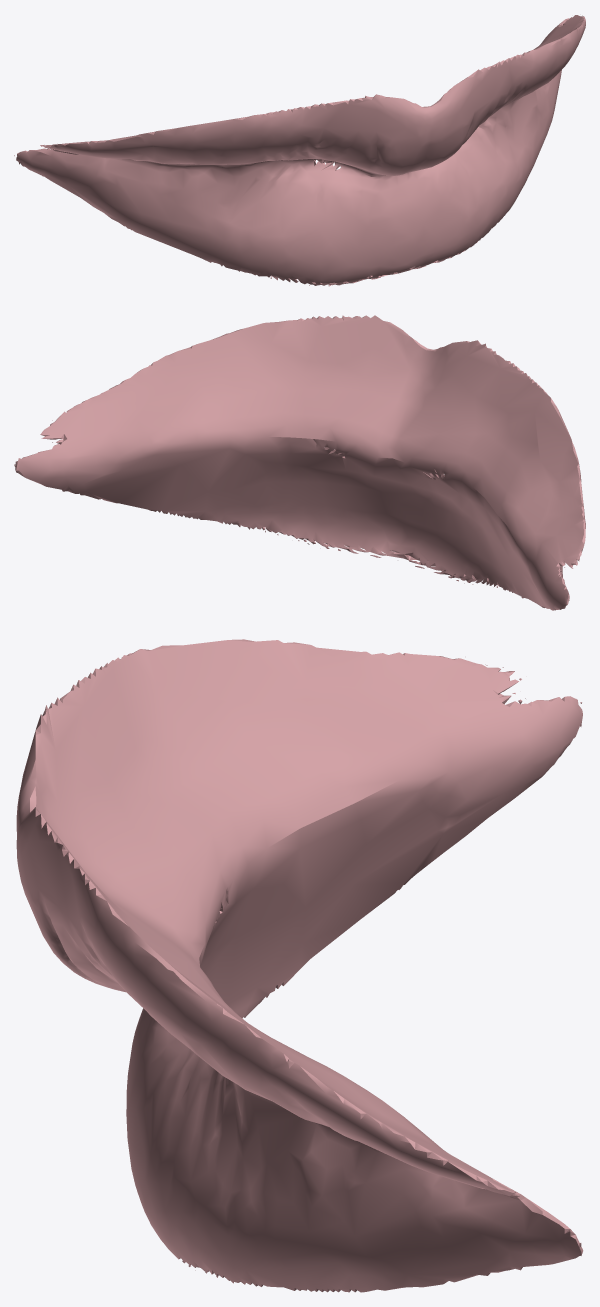
Rendered from fma59815nsn.glb.
3 views of the same model, one above another, from view 1: azimuth 30°, elevation 25°; view 2: azimuth 150°, elevation 25°; view 3: azimuth 270°, elevation 25° (orthographic). The views are drawn at different scales.
Visible parts, largest first — view 1: FMA59815nsn; view 2: FMA59815nsn; view 3: FMA59815nsn.
Boxes of the visible parts, x1,y1,x2,y2 form: FMA59815nsn: (14,15,585,286); FMA59815nsn: (14,315,585,610); FMA59815nsn: (16,639,583,1292).
Bounding box in the file's own units: 0.0465 × 0.0171 × 0.0206.
